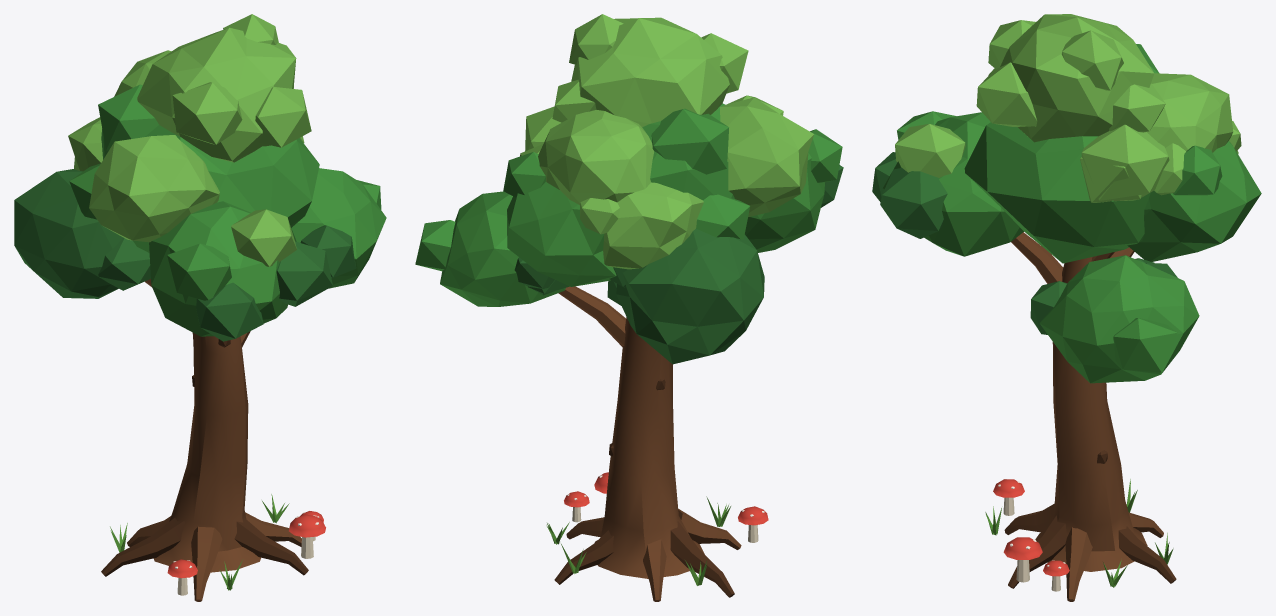
Rendered from tree.fbx.
3 views of the same model, side by side, from view 1: azimuth 30°, elevation 25°; view 2: azimuth 150°, elevation 25°; view 3: azimuth 270°, elevation 25° (orthographic). The views are drawn at different scales.
Visible parts, largest first — view 1: tree; view 2: tree; view 3: tree.
Boxes of the visible parts, left/top/right/bottom form: tree: left=14, top=14, right=386, bottom=601; tree: left=415, top=14, right=843, bottom=601; tree: left=872, top=14, right=1261, bottom=601.
Bounding box in the file's own units: 855 × 1285 × 823.
1 material, 1 textured.
